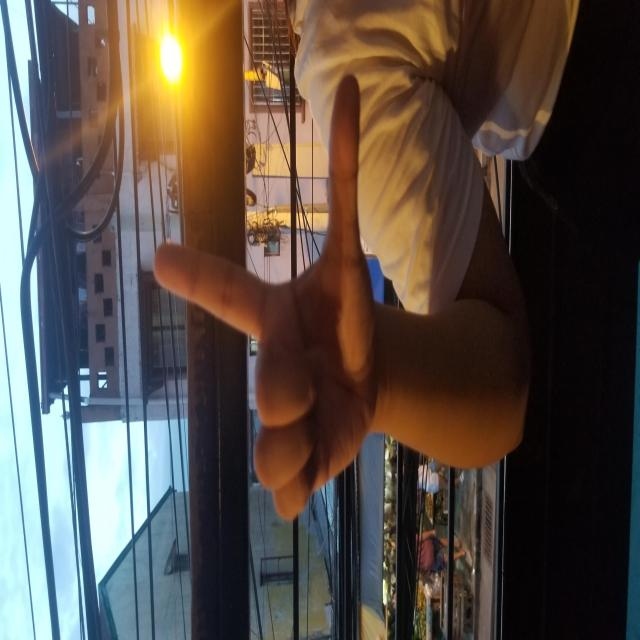L: (116, 153, 567, 377)
